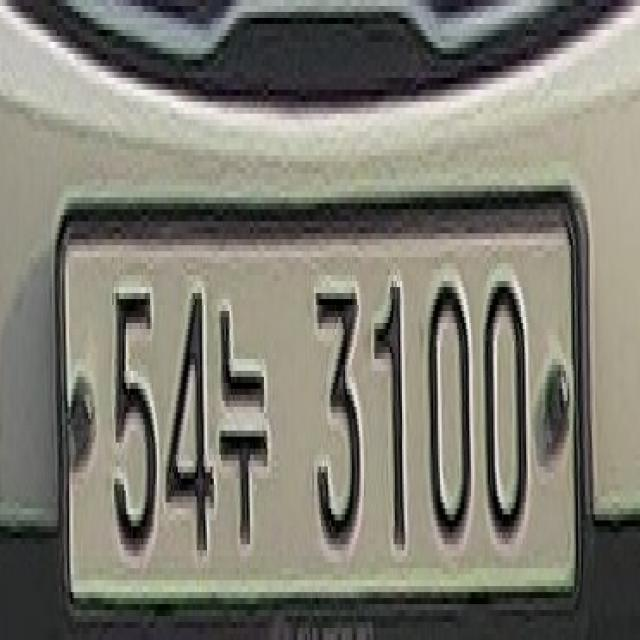0: (481, 251, 542, 610), (422, 233, 484, 562)
1: (362, 275, 421, 544)
3: (314, 221, 369, 580)
4: (159, 257, 217, 604)
5: (105, 227, 166, 592)
license_plate: (45, 173, 600, 628)
nu: (218, 293, 280, 544)
